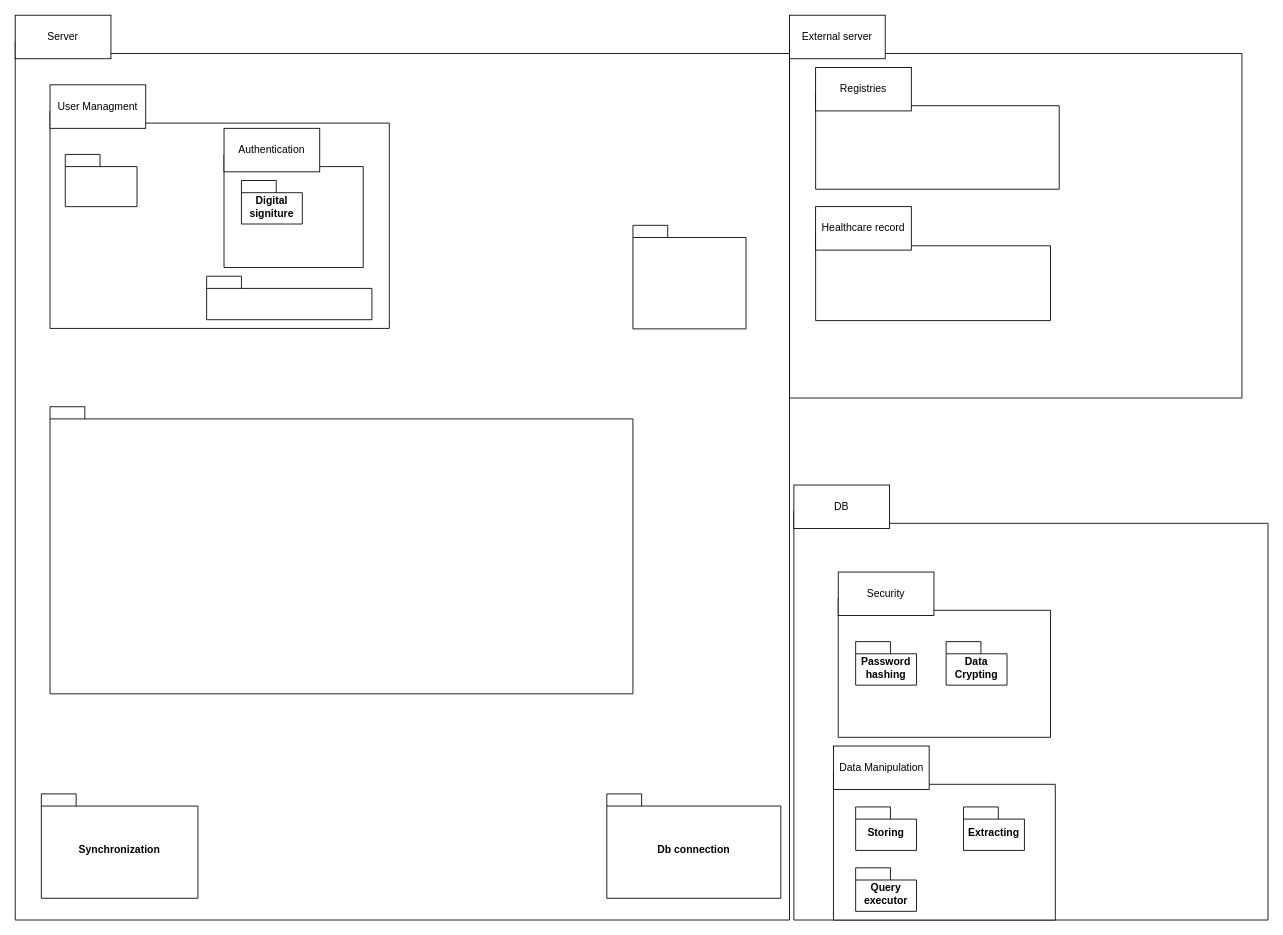
Some shapes in this 1283 by 935 pixel diagram are drawn without their labels. Here are the shapes that lost their labels. From the top down, the centre of each, then its label:
At [100,180]: "User registration".
At [689,276]: "Protocol connection".
At [289,297]: "Authorization".
At [341,550]: "UI".
